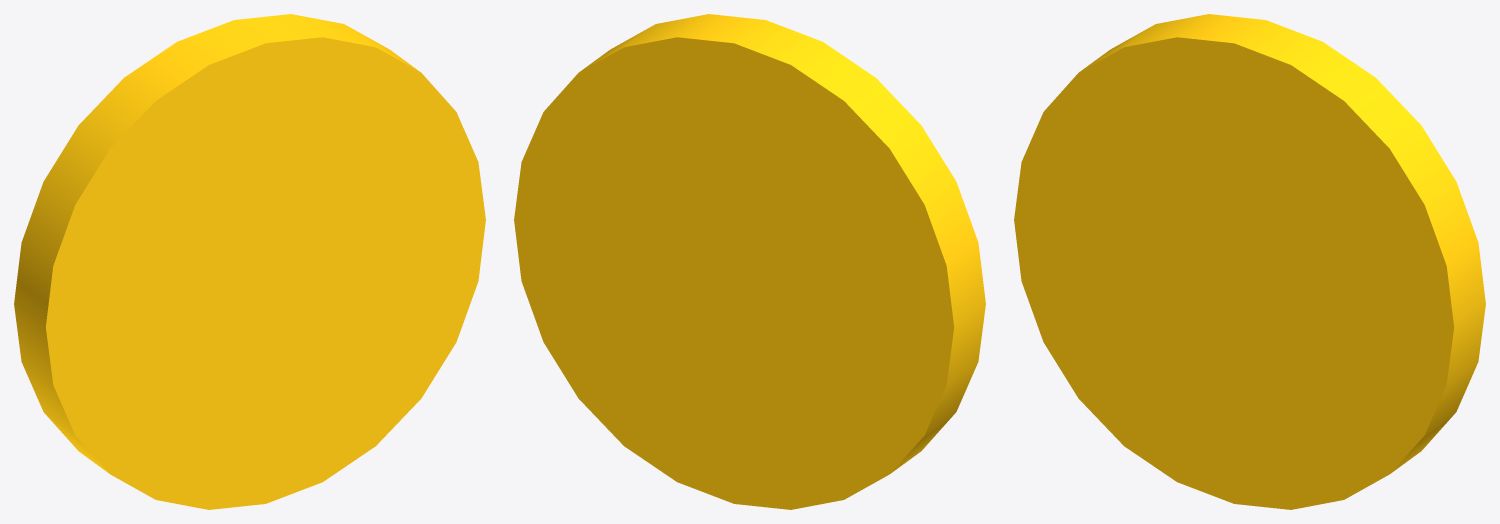
Rendered from piece_or.glb.
3 views of the same model, side by side, from view 1: azimuth 30°, elevation 25°; view 2: azimuth 150°, elevation 25°; view 3: azimuth 330°, elevation 25° (orthographic).
Bounding box in the file's own units: 0.64 × 0.64 × 0.08.
